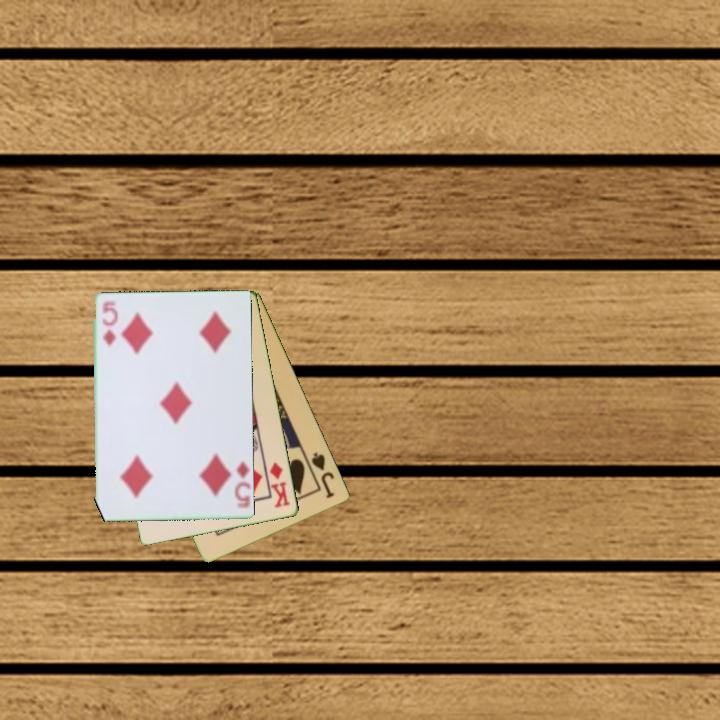5d: (232, 458, 253, 512), (99, 298, 116, 349)
Js: (308, 449, 338, 501)
Kd: (266, 459, 294, 511)
